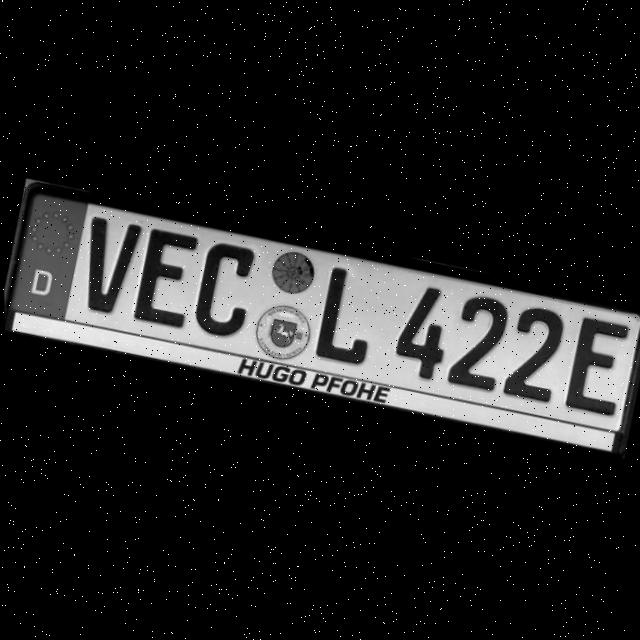license-plates: (4, 180, 640, 456)
